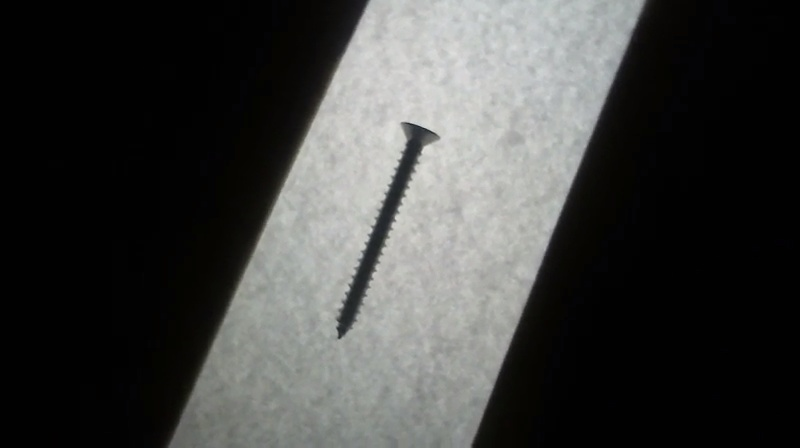S002: (333, 119, 444, 342)
